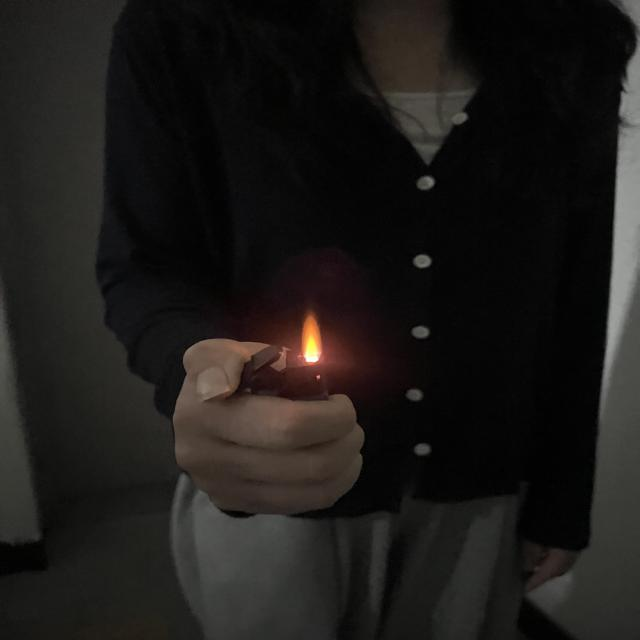fire: (304, 314, 324, 360)
